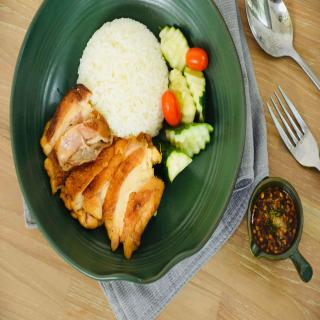carbs: (85, 31, 161, 128)
chicken_rice: (24, 0, 226, 266)
meat: (38, 138, 161, 248), (39, 92, 98, 140)
veg: (160, 28, 212, 176)
